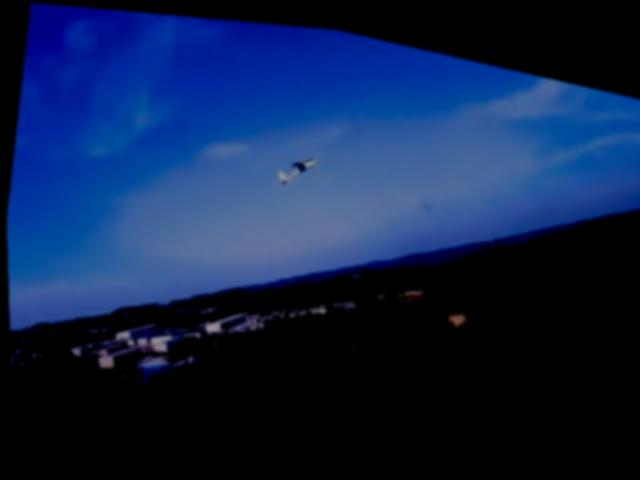uav: (270, 137, 320, 193)
